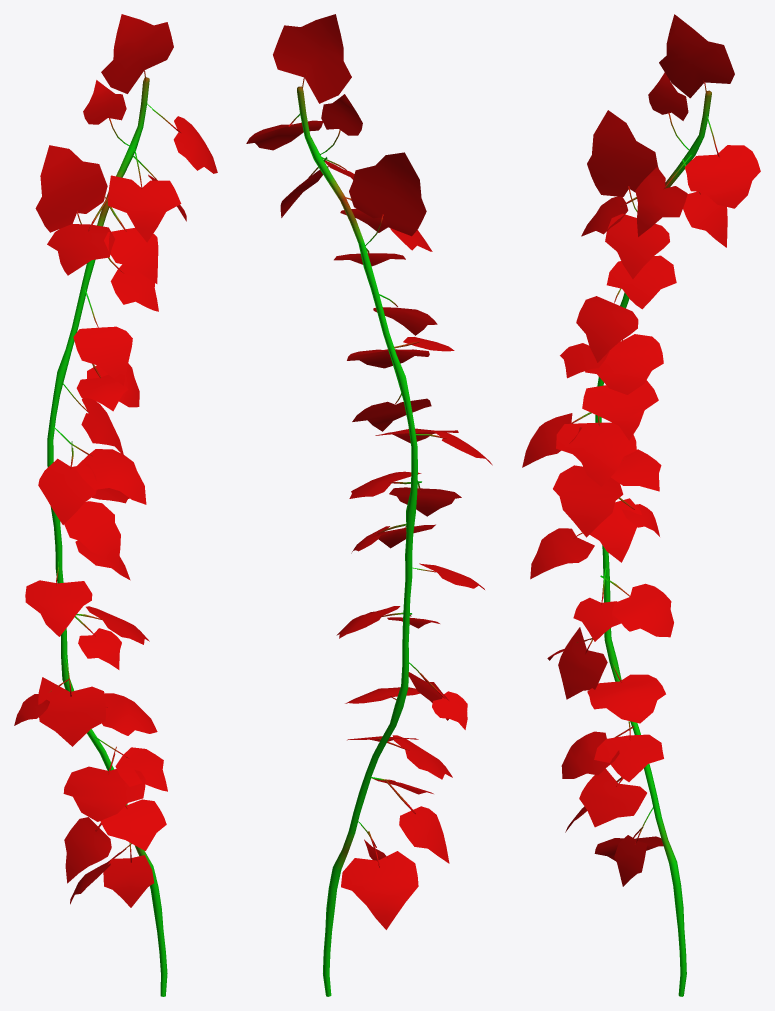
Rendered from Var12_LOD1.fbx.
3 views of the same model, side by side, from view 1: azimuth 30°, elevation 25°; view 2: azimuth 150°, elevation 25°; view 3: azimuth 330°, elevation 25° (orthographic). The views are drawn at different scales.
Visible parts, largest first — view 1: _zcwx_Var12_LOD1; view 2: _zcwx_Var12_LOD1; view 3: _zcwx_Var12_LOD1.
Boxes of the visible parts, x1,y1,x2,y2 form: _zcwx_Var12_LOD1: (14, 14, 217, 996); _zcwx_Var12_LOD1: (246, 14, 492, 996); _zcwx_Var12_LOD1: (522, 14, 760, 996).
Bounding box in the file's own units: 16.24 × 75.75 × 8.87.
